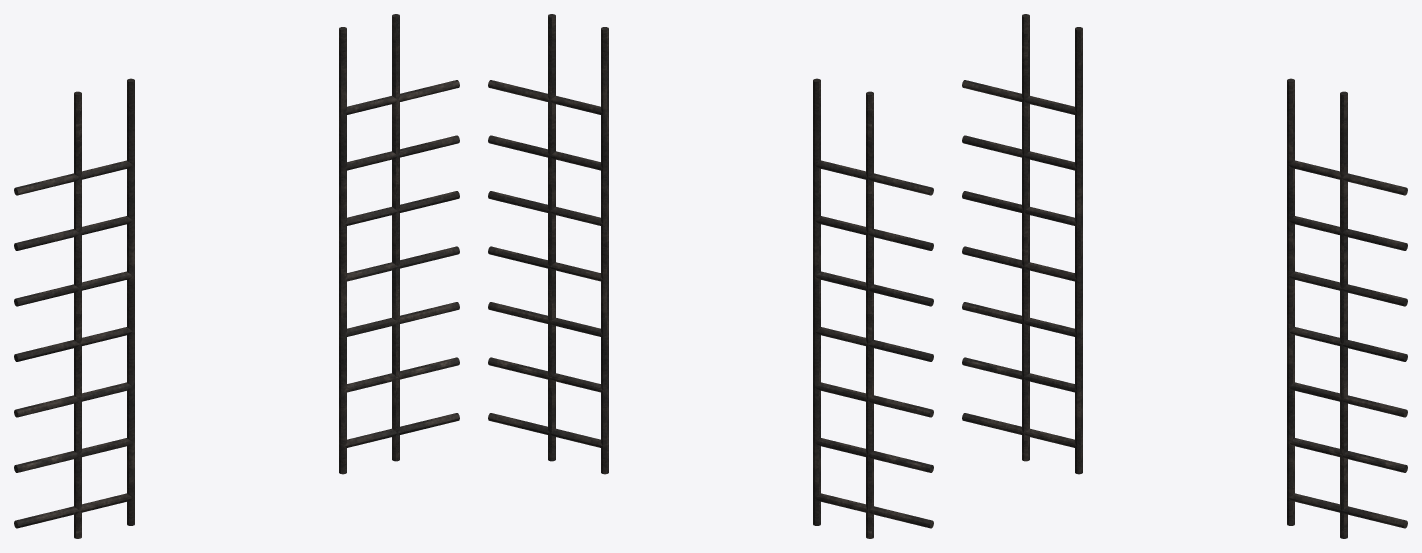
The model's file is bars_metal_1.fbx.
The picture shows the model from 3 angles, left to right: view 1: azimuth 30°, elevation 25°; view 2: azimuth 150°, elevation 25°; view 3: azimuth 330°, elevation 25°; orthographic projection.
Parts seen in each view (by area): view 1: bars_metal_1; view 2: bars_metal_1; view 3: bars_metal_1.
Part boxes in pixels (box(x1,y1,x2,y2)): bars_metal_1: box(14, 14, 459, 538); bars_metal_1: box(488, 14, 933, 538); bars_metal_1: box(962, 14, 1407, 538).
Bounding box in the file's own units: 250 × 240 × 4.
